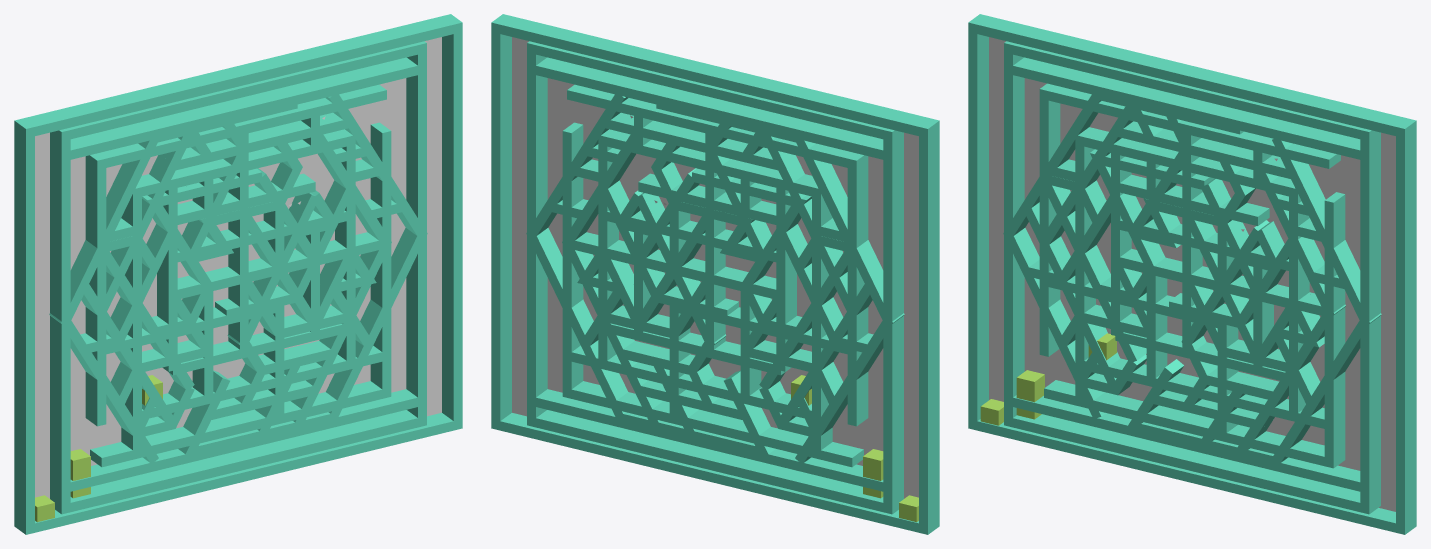
The model's file is Maze.glb.
3 views of the same model, side by side, from view 1: azimuth 30°, elevation 25°; view 2: azimuth 150°, elevation 25°; view 3: azimuth 330°, elevation 25° (orthographic).
Parts seen in each view (by area): view 1: Layer_001.002, Layer_001.004, Layer_001.001, Cube.004, Layer_001.003, Cube.003, Cube.001, Layer_001, Cube, Destination.003; view 2: Layer_001.002, Layer_001.004, Layer_001.001, Layer_001.003, Cube.004, Cube.001, Cube.003, Cube, Layer_001, Destination.003; view 3: Layer_001.002, Layer_001.004, Layer_001.001, Layer_001.003, Cube.004, Cube.003, Cube.001, Layer_001, Cube, Destination.003, Destination.004.
Part boxes in pixels (x1,y1,x2,y2): Layer_001.002: (14,14,462,534); Layer_001.004: (50,41,426,514); Layer_001.001: (50,57,426,493); Cube.004: (35,37,441,498); Layer_001.003: (121,129,355,421); Cube.003: (70,80,406,464); Cube.001: (70,88,406,465); Layer_001: (157,187,319,374); Cube: (142,223,301,394); Destination.003: (70,449,90,479); Layer_001.002: (491,14,939,534); Layer_001.004: (527,41,903,514); Layer_001.001: (527,57,903,493); Layer_001.003: (598,129,832,420); Cube.004: (512,37,918,498); Cube.001: (547,78,883,465); Cube.003: (547,78,883,464); Cube: (619,153,811,394); Layer_001: (634,191,796,374); Destination.003: (863,449,883,479); Layer_001.002: (968,14,1416,534); Layer_001.004: (1004,41,1380,514); Layer_001.001: (1004,57,1380,493); Layer_001.003: (1075,127,1309,422); Cube.004: (989,37,1395,511); Cube.003: (1024,78,1360,468); Cube.001: (1024,81,1360,470); Layer_001: (1111,190,1266,366); Cube: (1096,173,1288,399); Destination.003: (1016,370,1044,400); Destination.004: (980,399,1003,425).
Bounding box in the file's own units: 48.62 × 43.2 × 2.25.
